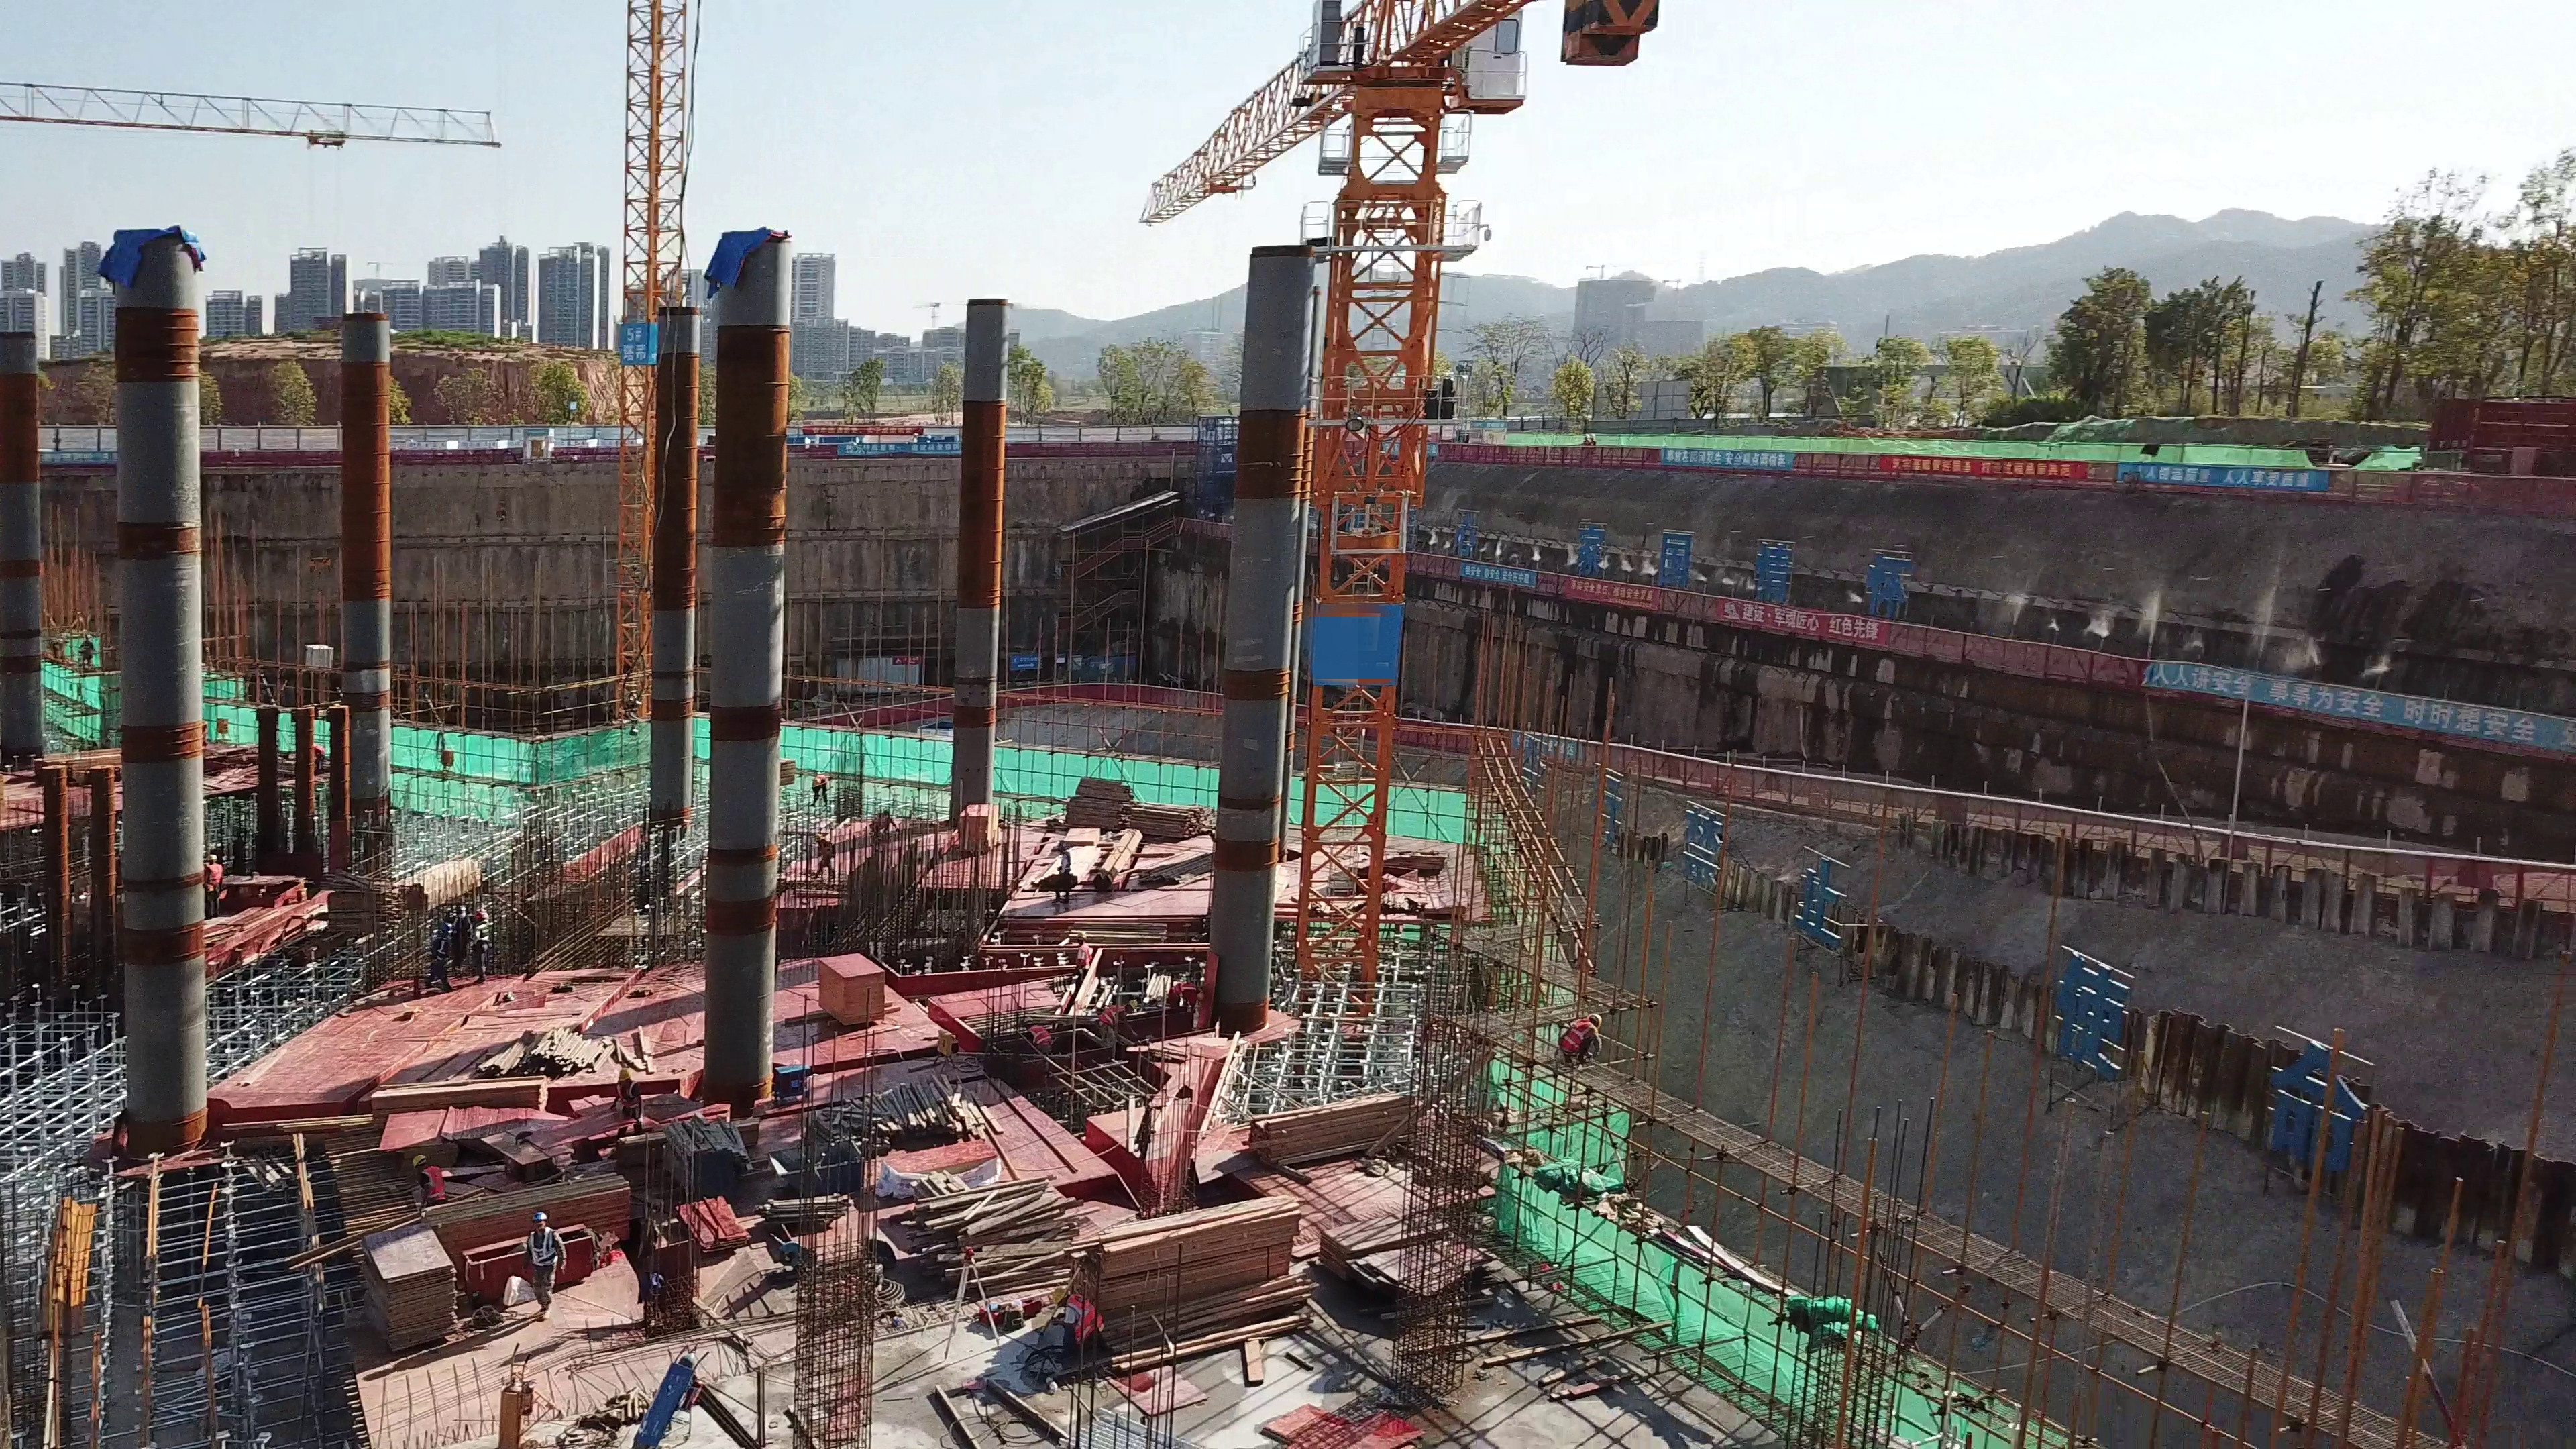board: (339, 1234, 467, 1348), (475, 1181, 643, 1226), (684, 1193, 764, 1261), (822, 949, 882, 1021), (954, 796, 1012, 851)
cutter: (477, 1116, 569, 1180)
helmet: (1049, 1283, 1067, 1301), (1591, 1010, 1608, 1030), (614, 1069, 633, 1084), (1057, 835, 1071, 851), (1128, 998, 1146, 1012), (473, 906, 490, 919), (1078, 928, 1089, 941), (205, 851, 219, 863), (409, 1155, 428, 1164), (1020, 1012, 1034, 1022), (1199, 989, 1210, 1002), (453, 905, 468, 912), (531, 1212, 547, 1219)
hopper: (763, 1142, 881, 1195)
person: (513, 1197, 590, 1324), (1046, 1283, 1111, 1389), (404, 1138, 460, 1210), (1557, 1008, 1612, 1074), (1097, 1000, 1144, 1049), (424, 922, 451, 994), (447, 904, 472, 979), (470, 908, 494, 980), (205, 853, 230, 918), (812, 824, 839, 885), (612, 1067, 644, 1117), (1016, 1014, 1054, 1053), (1165, 981, 1205, 1017), (1053, 842, 1073, 919), (1070, 927, 1095, 979), (805, 772, 837, 811), (868, 806, 900, 839), (80, 631, 95, 674)
slogan: (2145, 653, 2543, 749), (1580, 513, 1910, 621), (2134, 455, 2334, 499), (1717, 596, 1884, 641), (1880, 452, 2083, 479), (1654, 435, 1792, 470), (1555, 580, 1670, 615), (1442, 556, 1536, 591), (843, 437, 959, 456), (808, 423, 919, 437), (619, 329, 657, 362)
vest: (1067, 1295, 1104, 1338), (528, 1234, 561, 1269), (1560, 1021, 1591, 1057), (423, 1169, 452, 1201), (431, 938, 450, 970), (1173, 981, 1193, 1008), (619, 1083, 637, 1114), (1099, 1000, 1122, 1023), (1059, 853, 1076, 882), (205, 864, 220, 897), (477, 924, 494, 952), (1077, 943, 1091, 973), (1032, 1028, 1049, 1046)
wood: (934, 1177, 1293, 1273), (1265, 1095, 1430, 1165), (824, 1083, 1006, 1145), (482, 1027, 621, 1083), (1072, 786, 1205, 841), (337, 852, 484, 896), (669, 1116, 755, 1183), (1388, 834, 1440, 867)
